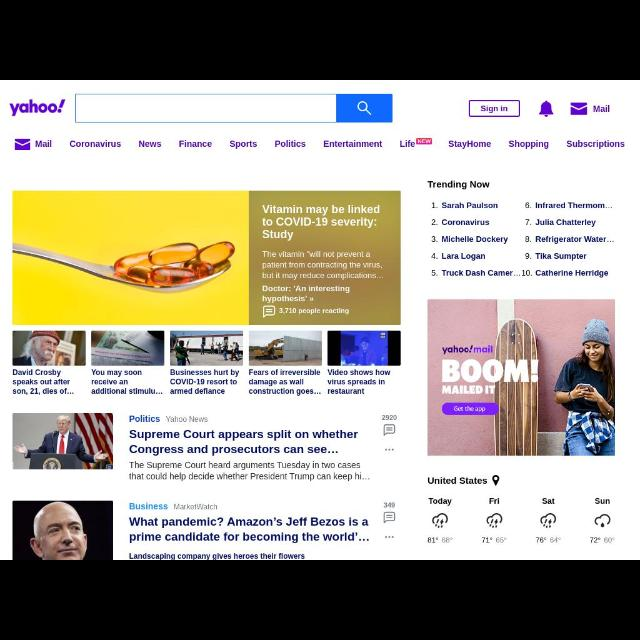button: (338, 94, 392, 122)
icon: (356, 101, 372, 117), (432, 512, 448, 528), (539, 100, 553, 118), (570, 102, 588, 116), (486, 514, 502, 528), (540, 514, 556, 528), (595, 514, 611, 528), (382, 422, 396, 436), (382, 511, 396, 524), (15, 138, 30, 150), (262, 304, 274, 318), (492, 474, 500, 488), (384, 534, 396, 540), (384, 447, 394, 453)
image: (13, 191, 249, 325), (428, 300, 616, 458), (13, 499, 113, 558), (13, 413, 112, 469), (327, 330, 401, 366), (170, 330, 243, 366), (12, 331, 86, 365), (248, 332, 322, 366), (92, 331, 164, 365), (10, 100, 66, 118)
input: (75, 95, 337, 122)
text: (128, 514, 372, 544), (128, 428, 358, 454), (129, 458, 371, 482), (262, 202, 381, 244), (262, 248, 384, 280), (262, 284, 350, 302), (128, 553, 308, 559), (534, 234, 616, 244), (441, 268, 521, 278), (534, 268, 608, 278), (278, 306, 349, 316), (441, 235, 511, 245), (426, 180, 489, 190), (322, 139, 383, 149), (427, 476, 488, 486), (534, 202, 610, 210), (565, 139, 625, 149), (441, 201, 497, 211), (535, 251, 587, 261), (534, 218, 598, 226), (440, 251, 486, 261), (400, 136, 432, 150), (448, 139, 490, 149), (508, 140, 550, 150), (166, 414, 208, 424), (70, 140, 122, 148), (441, 218, 489, 226), (174, 502, 218, 510), (274, 139, 306, 149), (128, 503, 168, 511), (480, 105, 508, 115), (230, 139, 258, 149), (178, 139, 212, 147), (536, 536, 562, 546), (138, 140, 162, 150), (130, 415, 160, 423), (430, 496, 452, 506), (427, 536, 453, 544), (481, 536, 507, 544), (593, 104, 611, 114), (486, 496, 502, 506), (589, 538, 615, 544), (35, 140, 53, 148), (381, 413, 399, 421), (542, 498, 556, 506), (522, 268, 532, 278), (595, 498, 611, 504), (430, 218, 440, 226), (384, 502, 396, 508), (430, 235, 438, 243), (430, 269, 438, 277), (524, 201, 532, 209), (524, 252, 532, 260), (430, 202, 438, 208), (431, 252, 437, 260), (525, 218, 531, 226), (525, 236, 531, 244)
textbutton: (468, 100, 520, 116)
